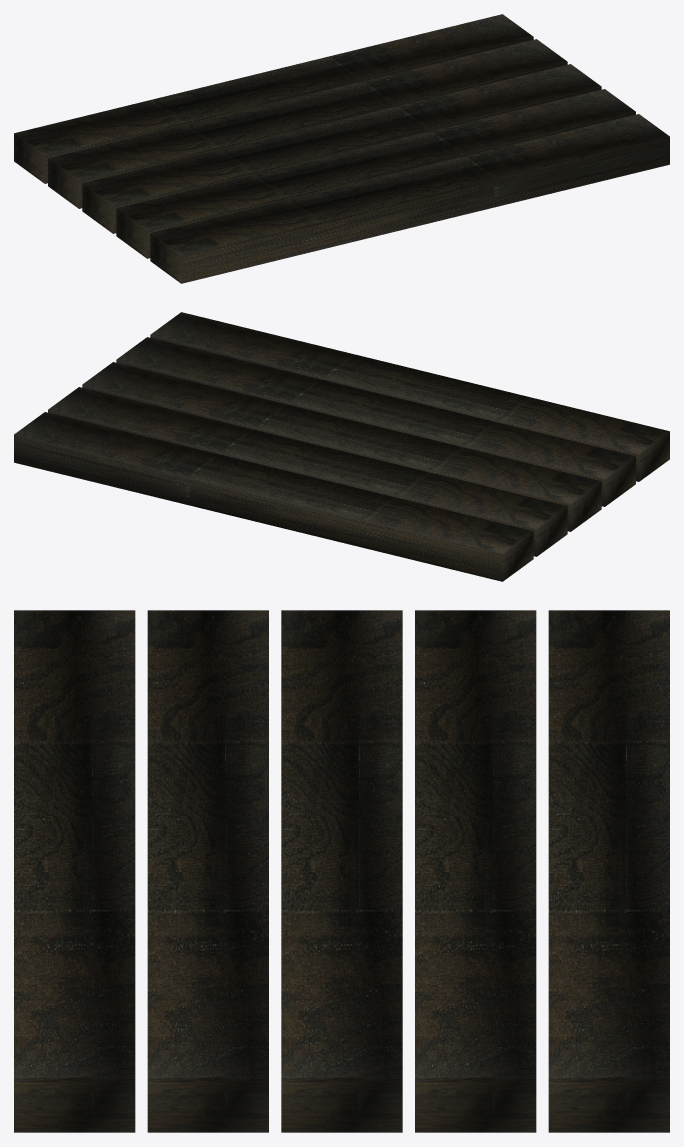
File: WoodenBarrier.obj
3 renders of one model, top to bottom at view 1: azimuth 30°, elevation 25°; view 2: azimuth 150°, elevation 25°; view 3: azimuth 270°, elevation 25°, orthographic. The views are drawn at different scales.
Parts seen in each view (by area): view 1: Box064; view 2: Box064; view 3: Box064.
Boxes of the visible parts, x1=… form: Box064: x1=14, y1=14, x2=669, y2=283; Box064: x1=14, y1=312, x2=669, y2=581; Box064: x1=14, y1=610, x2=669, y2=1132.
Bounding box in the file's own units: 108 × 5.91 × 63.78.
